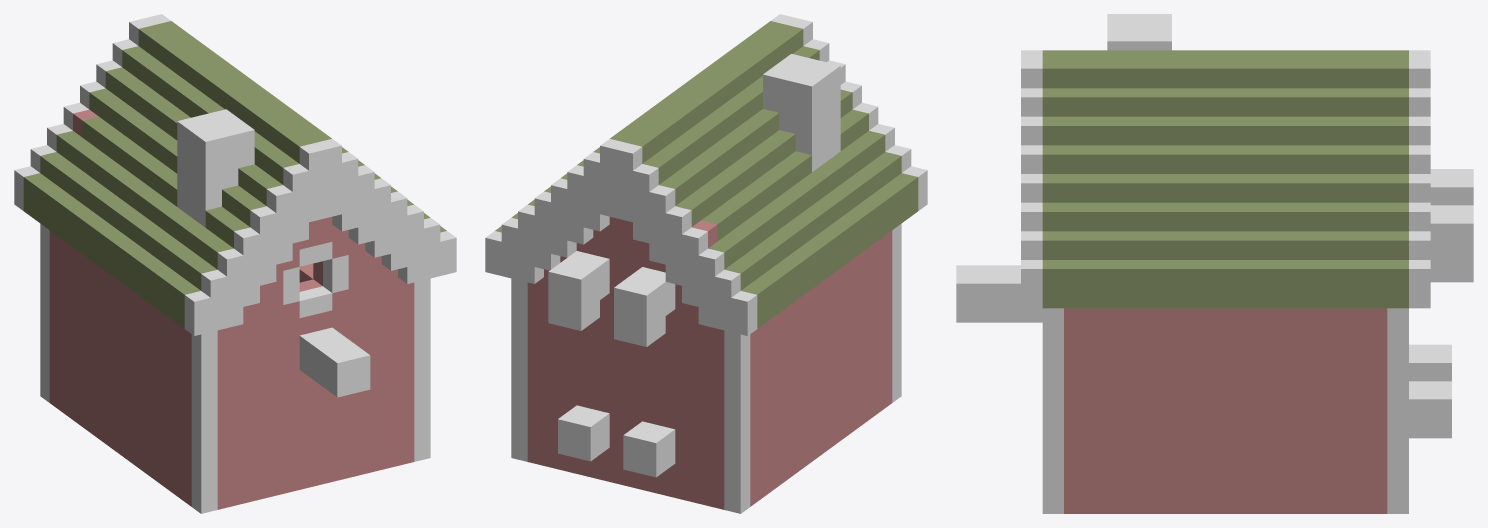
File: vogelhuis.fbx
3 renders of one model, left to right at view 1: azimuth 30°, elevation 25°; view 2: azimuth 150°, elevation 25°; view 3: azimuth 270°, elevation 25°, orthographic. The views are drawn at different scales.
Parts seen in each view (by area): view 1: Layer.2; view 2: Layer.2; view 3: Layer.2.
Part boxes in pixels (box(x1,y1,x2,y2)): Layer.2: box(14, 14, 456, 513); Layer.2: box(485, 14, 927, 513); Layer.2: box(956, 14, 1473, 513).
Bounding box in the file's own units: 1600 × 2000 × 2400.
Materials: 1 (1 with a texture image).
